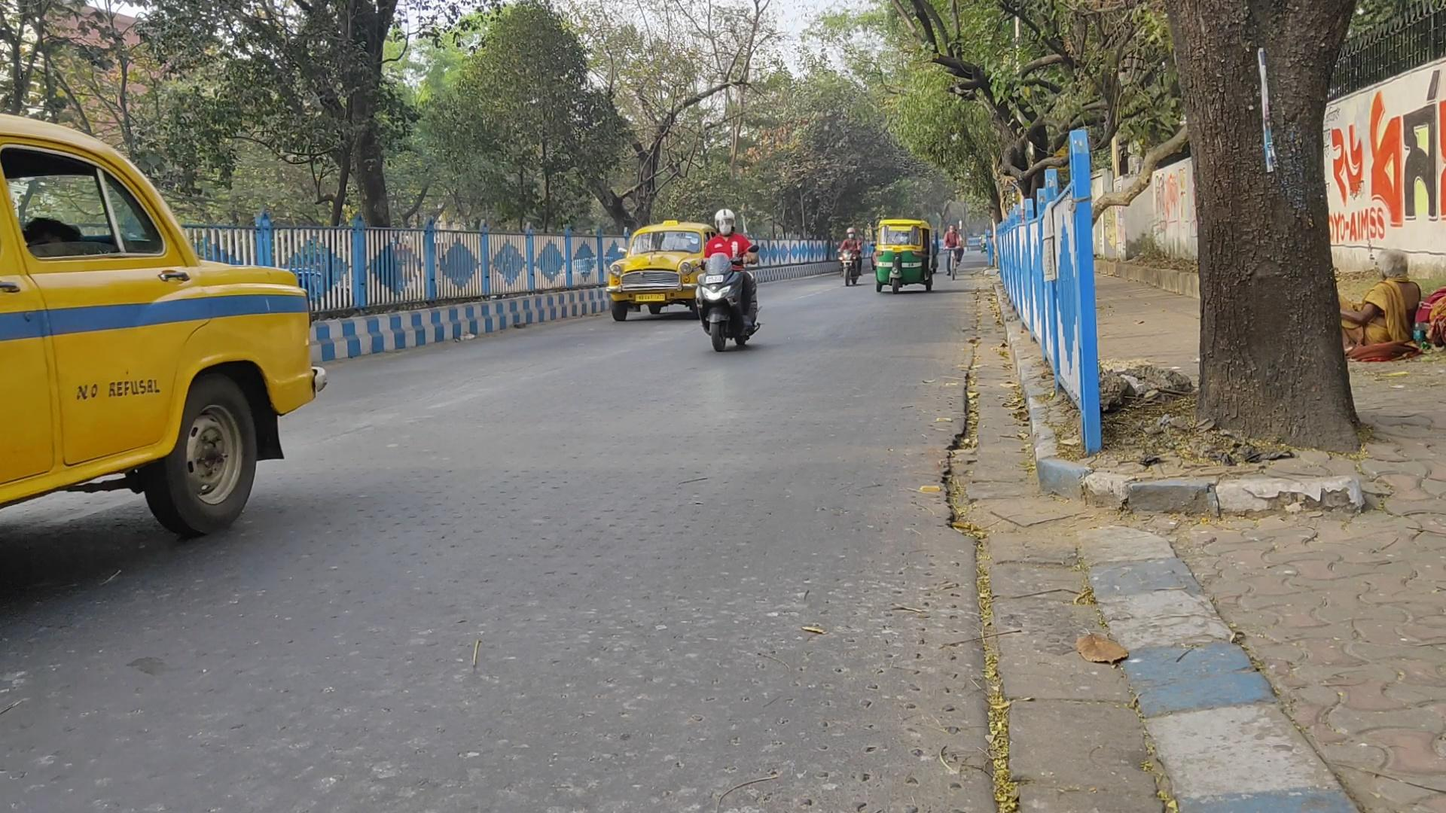Auto: (874, 216, 935, 297)
bike: (694, 206, 762, 352), (836, 226, 863, 287), (944, 224, 963, 282)
car: (1, 109, 329, 550), (607, 219, 721, 322)
